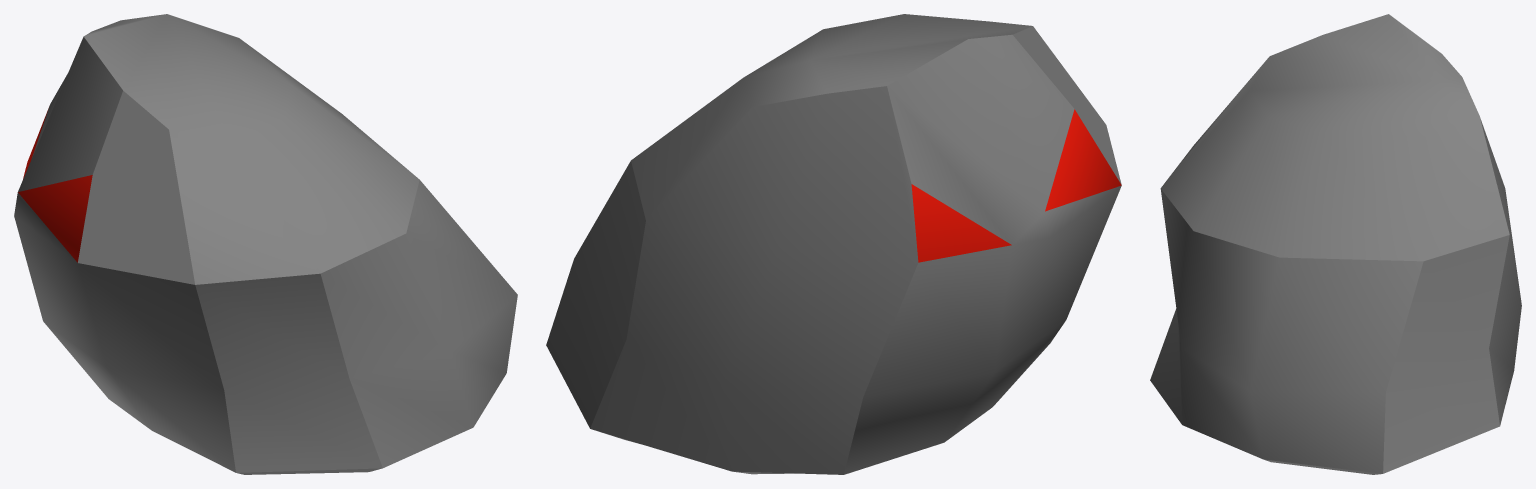
The model's file is КаменьГений.FBX.
3 renders of one model, left to right at view 1: azimuth 30°, elevation 25°; view 2: azimuth 150°, elevation 25°; view 3: azimuth 270°, elevation 25°, orthographic. The views are drawn at different scales.
Visible parts, largest first — view 1: Sphere009; view 2: Sphere009; view 3: Sphere009.
Boxes of the visible parts, <box> form: Sphere009: <box>14,14,517,474</box>; Sphere009: <box>546,14,1121,474</box>; Sphere009: <box>1150,14,1521,474</box>.
Bounding box in the file's own units: 64.61 × 52.29 × 55.5.
